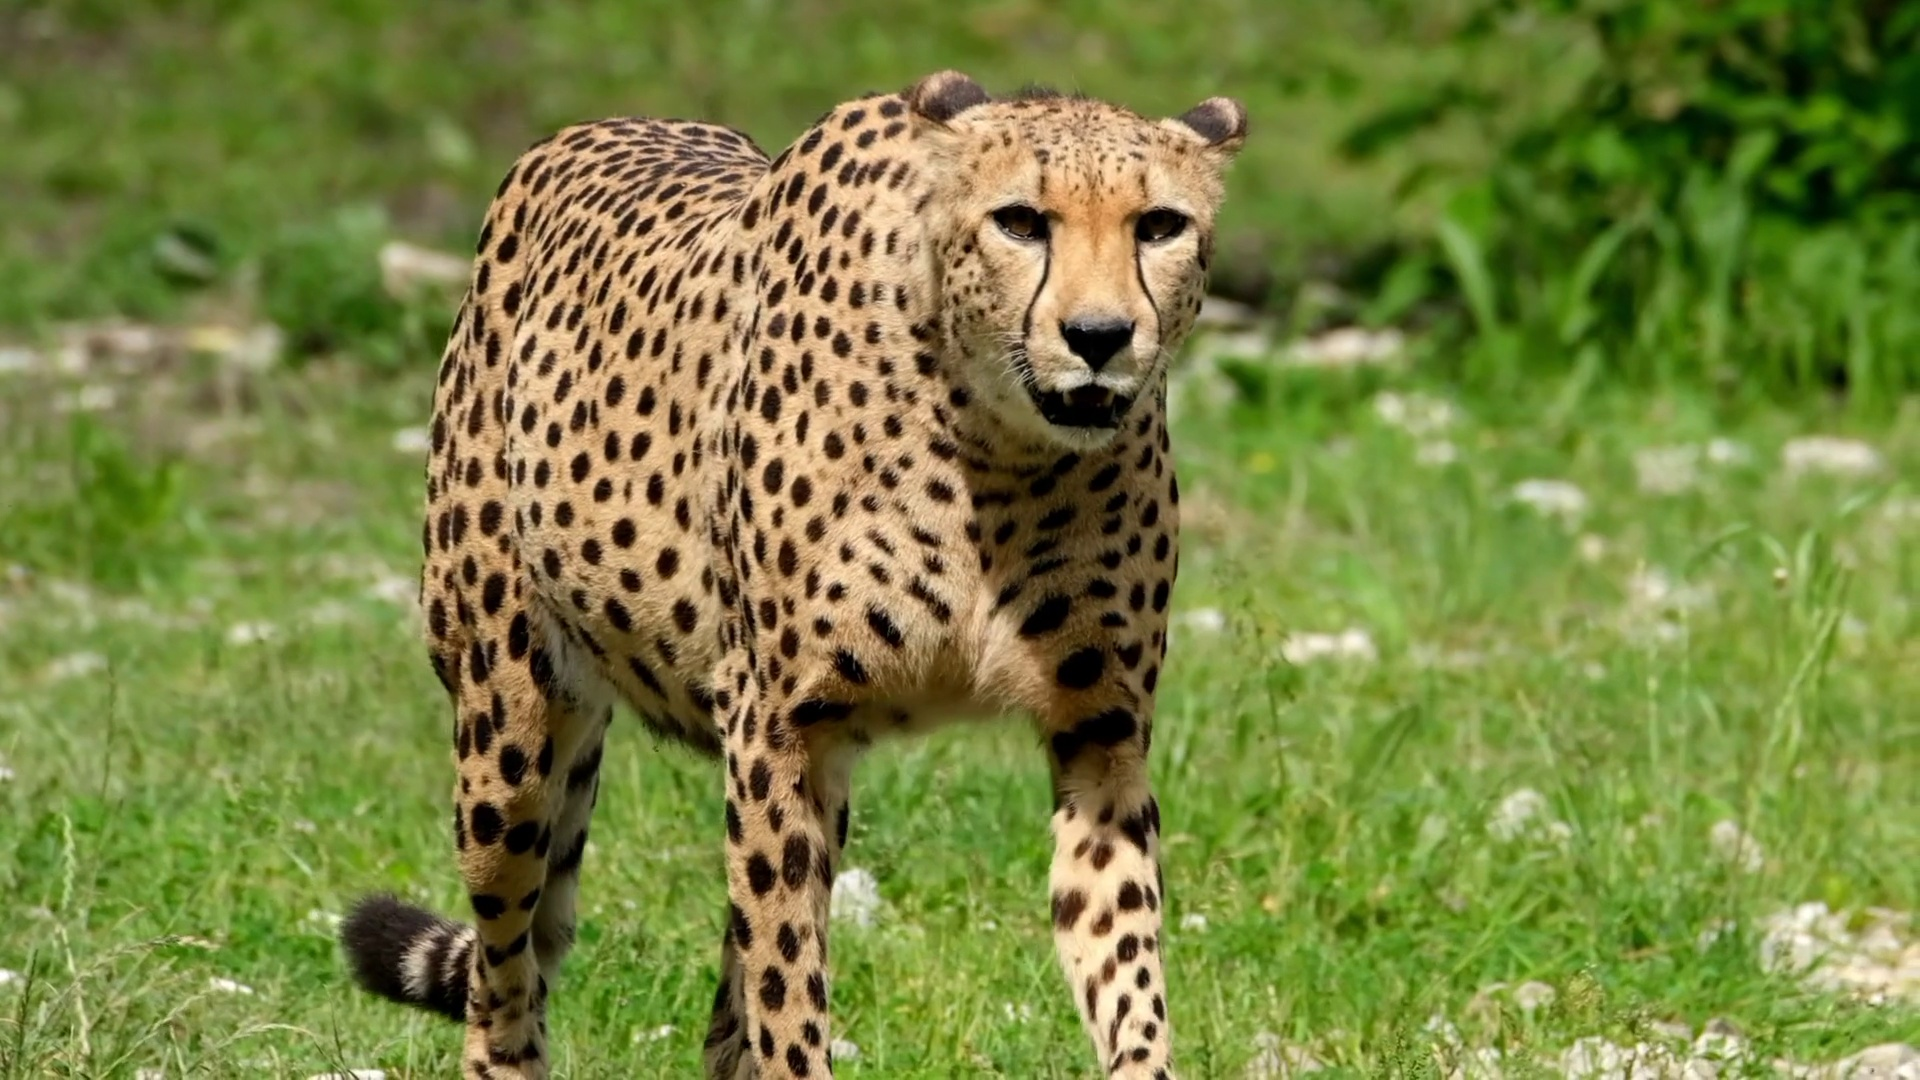Cheetah: (334, 63, 1265, 1080)
